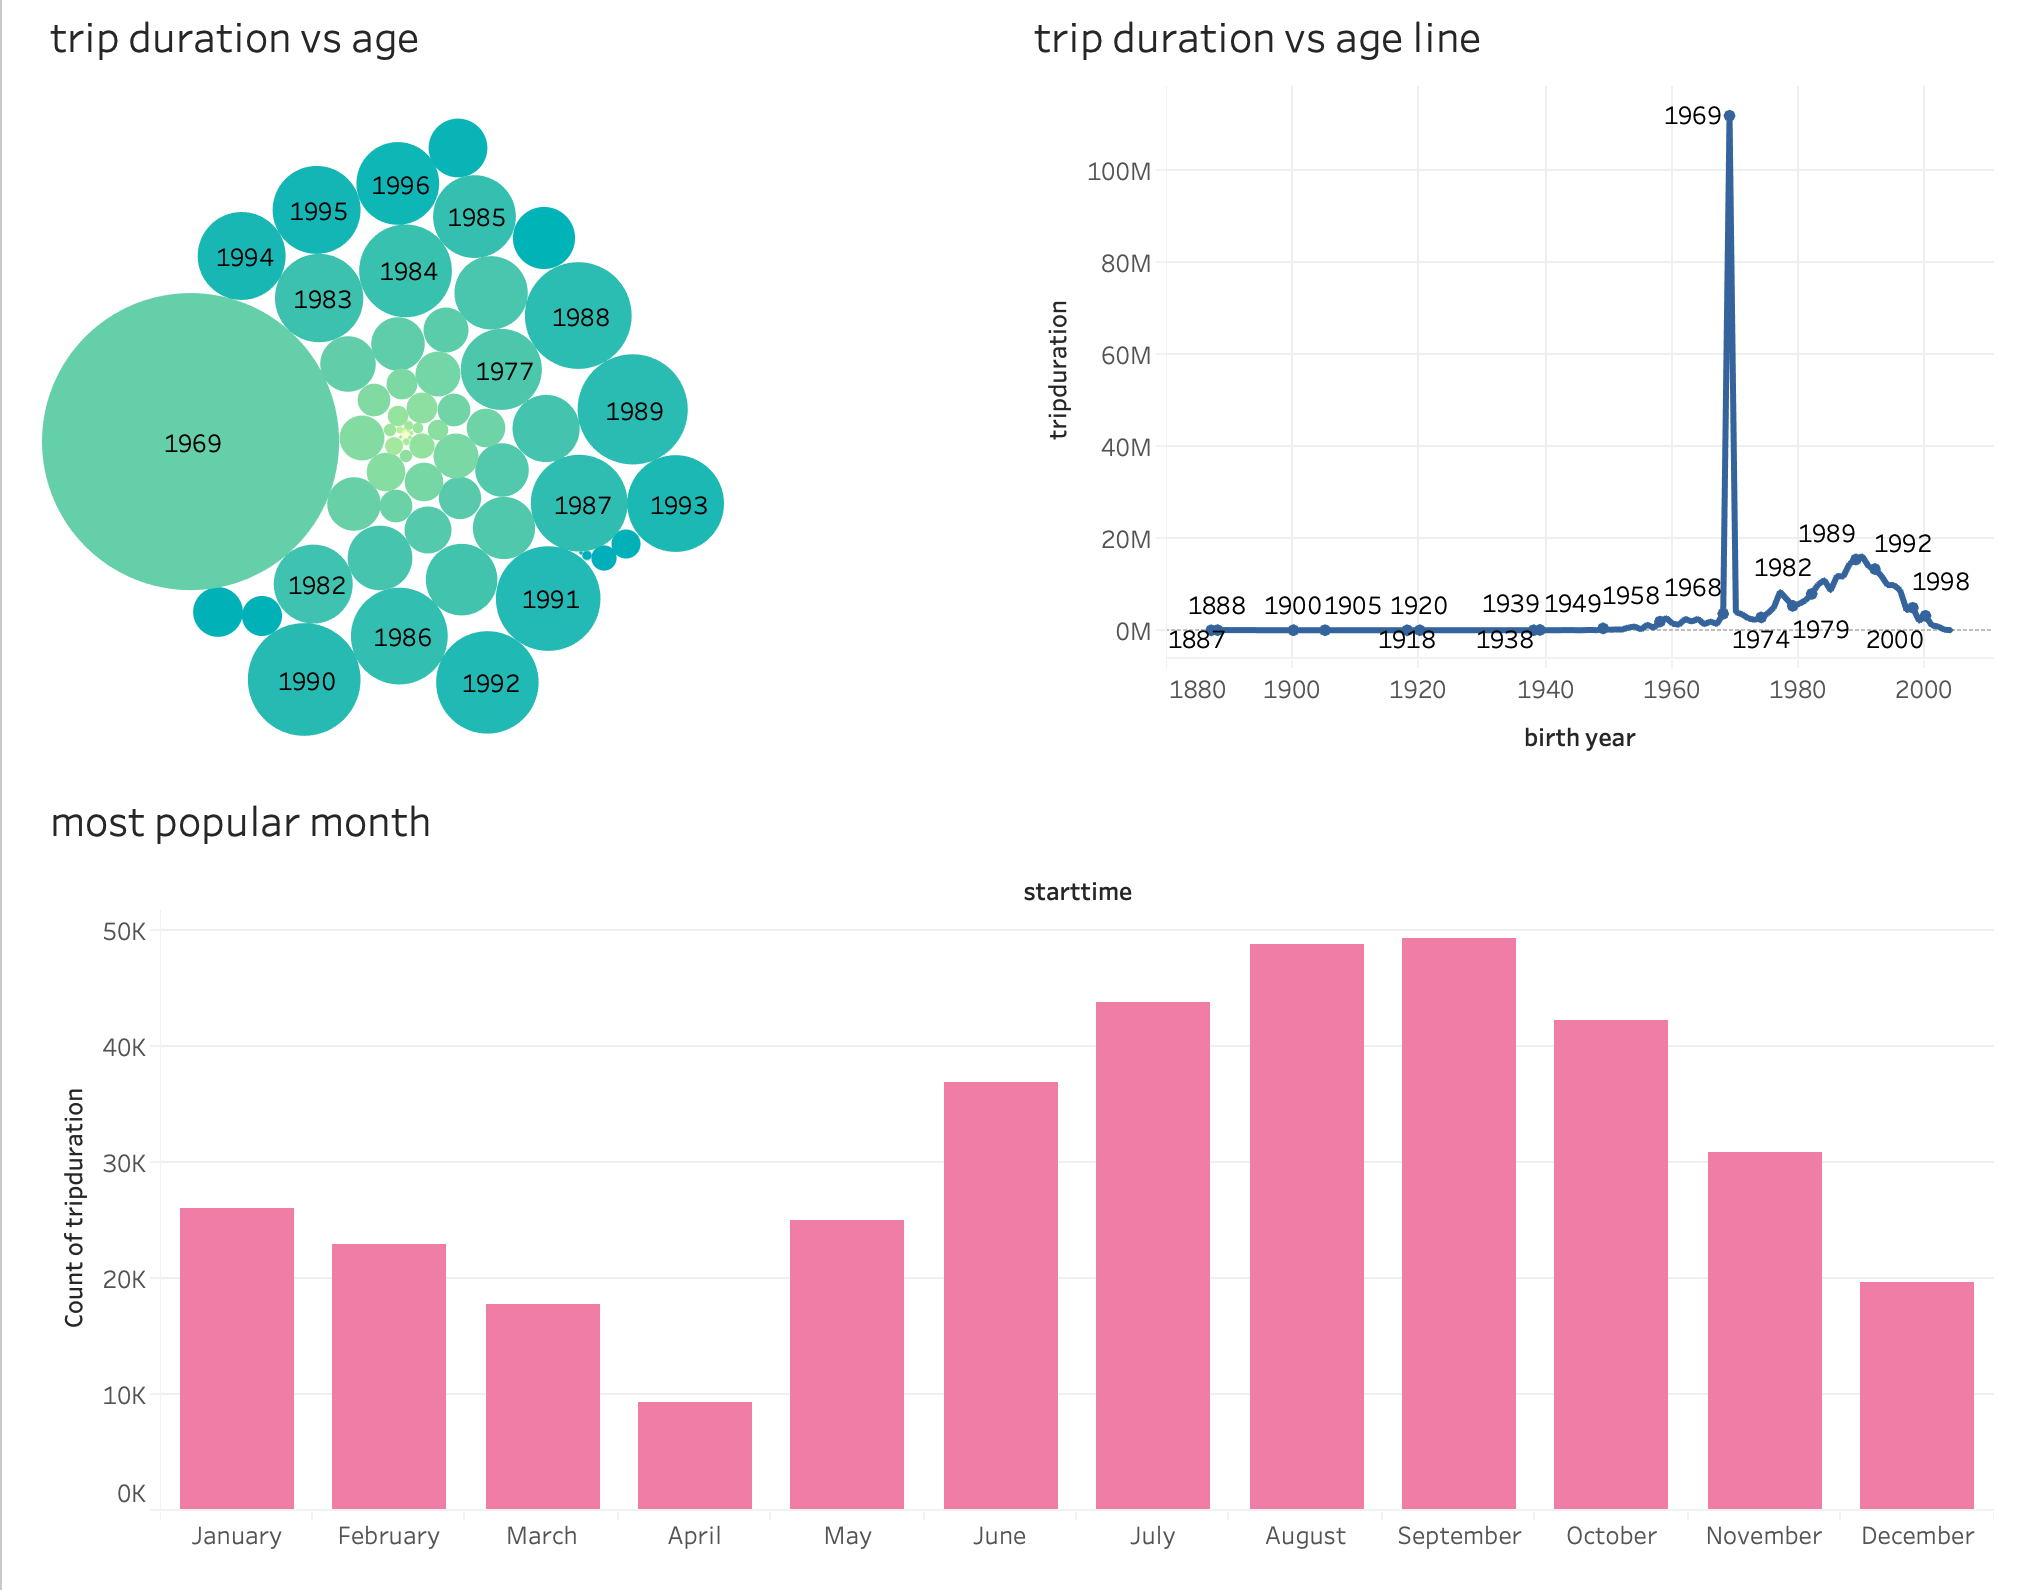

What the dashboard file says about the page in this screenshot:
{"tool":"tableau","page":{"name":"Dashboard 2","canvas":[1000,800],"ordinal":1},"visuals":[{"type":"worksheet","box":[0,0,1000,800]},{"type":"worksheet","param":"horz","box":[8,8,984,784]},{"type":"worksheet","box":[8,8,984,784]},{"type":"worksheet","title":"trip duration vs age","mark":"Circle","box":[8,8,492,392]},{"type":"worksheet","title":"trip duration vs age line","mark":"Automatic","rows":["tripduration"],"cols":["birth year"],"box":[500,8,492,392]},{"type":"worksheet","title":"most popular month","mark":"Bar","rows":["tripduration"],"cols":["starttime"],"box":[8,400,984,392]}]}

Visuals, with their boxes in screenshot pixels (x1, y1, x2, y2), scaled from the page's 1000x800 canvas onto the 2034x1590 screenshot:
worksheet: locate(0, 0, 2033, 1589)
worksheet: locate(16, 16, 2018, 1574)
worksheet: locate(16, 16, 2018, 1574)
"trip duration vs age" worksheet (Circle marks): locate(16, 16, 1017, 795)
"trip duration vs age line" worksheet: locate(1017, 16, 2018, 795)
"most popular month" worksheet (Bar marks): locate(16, 795, 2018, 1574)
